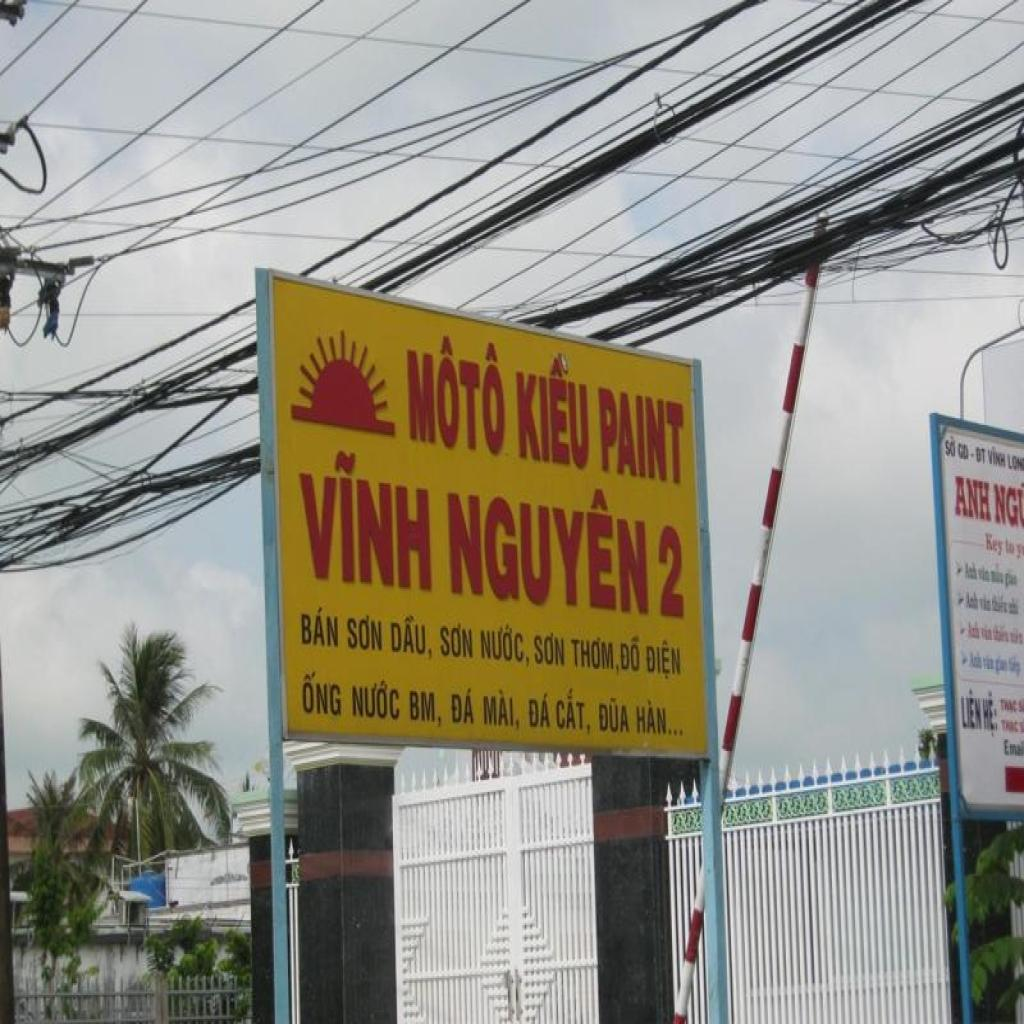text: (448, 468, 649, 614), (297, 446, 434, 592), (407, 333, 508, 461), (513, 346, 593, 473), (596, 386, 688, 486), (656, 522, 688, 620), (478, 620, 534, 670), (570, 630, 624, 679), (352, 678, 402, 726), (388, 611, 435, 662), (634, 698, 690, 739), (300, 669, 343, 717), (951, 474, 992, 522), (480, 686, 522, 732), (644, 638, 683, 686), (556, 688, 592, 739), (344, 611, 386, 654), (300, 606, 340, 650), (438, 618, 475, 659), (531, 628, 566, 669), (410, 690, 444, 730), (992, 480, 1020, 528), (597, 696, 631, 734), (960, 686, 984, 734), (449, 686, 476, 727), (529, 688, 553, 730), (982, 688, 1000, 742), (620, 632, 642, 674), (956, 444, 987, 464), (984, 529, 1004, 560), (986, 444, 1008, 471), (990, 589, 1008, 616), (1006, 654, 1022, 681), (992, 623, 1011, 645), (966, 648, 983, 672), (993, 654, 1010, 678), (1004, 567, 1020, 592), (1000, 717, 1020, 737), (1006, 454, 1024, 476), (964, 558, 979, 584), (966, 618, 982, 642), (988, 564, 1005, 586), (944, 435, 958, 461), (998, 698, 1019, 715), (964, 590, 980, 612), (979, 623, 995, 642), (1010, 626, 1024, 647), (976, 565, 990, 585), (979, 594, 993, 613), (1004, 534, 1016, 555), (1008, 596, 1020, 616), (983, 654, 996, 672)
